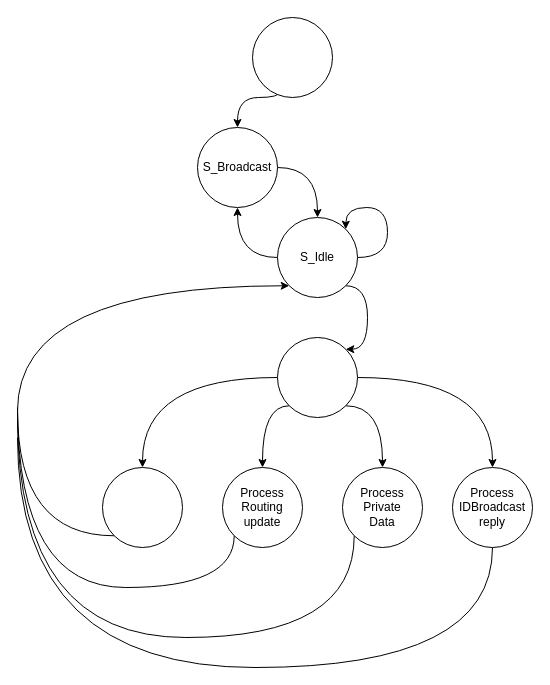
This 550x685 diagram has some shape labels left out. The shapes that lost their labels are listed below. From the top down, each one's centre as x and y in pixels, then its label:
At (x=292, y=57): "S_Boot".
At (x=317, y=377): "S_GotMail".
At (x=142, y=507): "Process IDBroadcast".
